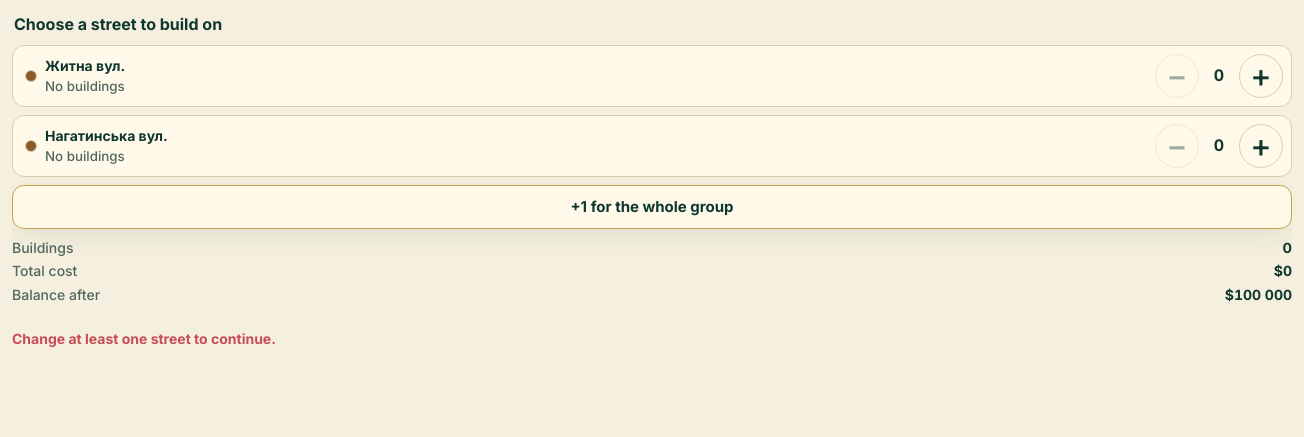
Test: BuildingStepper › highlights the street that breaks even building with its own reason, keeping the totals
Click the button named "Add a building".
click(1261, 76)  # box [1239,54,1283,98]
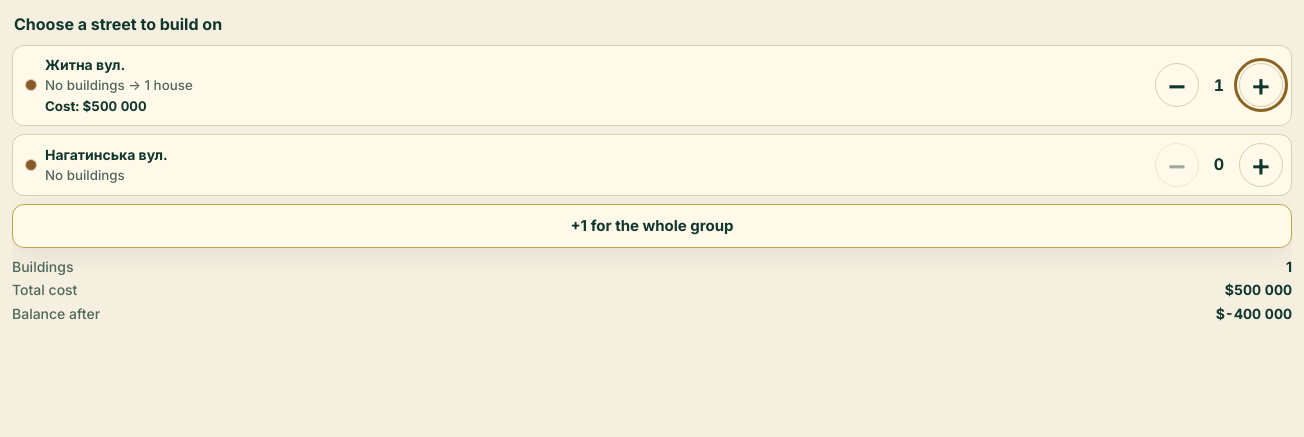
Click the button named "Add a building".
click(1261, 85)  # box [1239,63,1283,107]
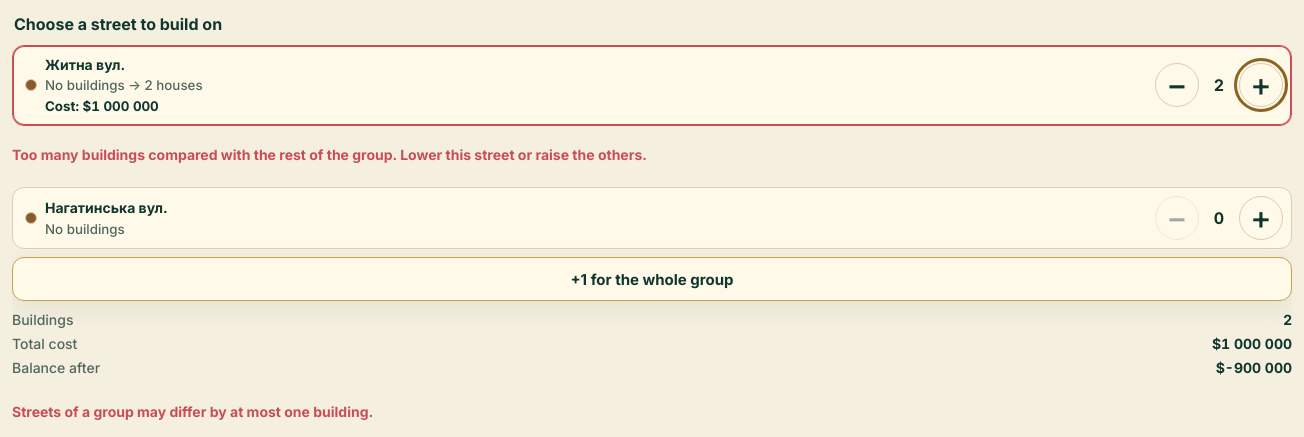
Expected: the element showing "Житна вул. No buildings → 2 houses Cost: $1 000 000 − 2 +" is shown, [12,45,1292,126]
Expected: the message with id "building-reason" shows "differ by at most one building", [12,402,373,420]
Expected: the 2nd text "2" is shown, [1283,312,1292,328]
